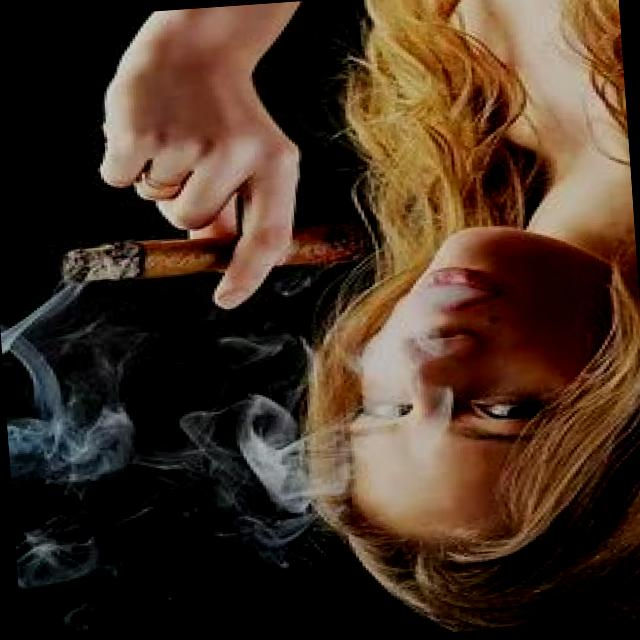smoke: (31, 200, 373, 296)
